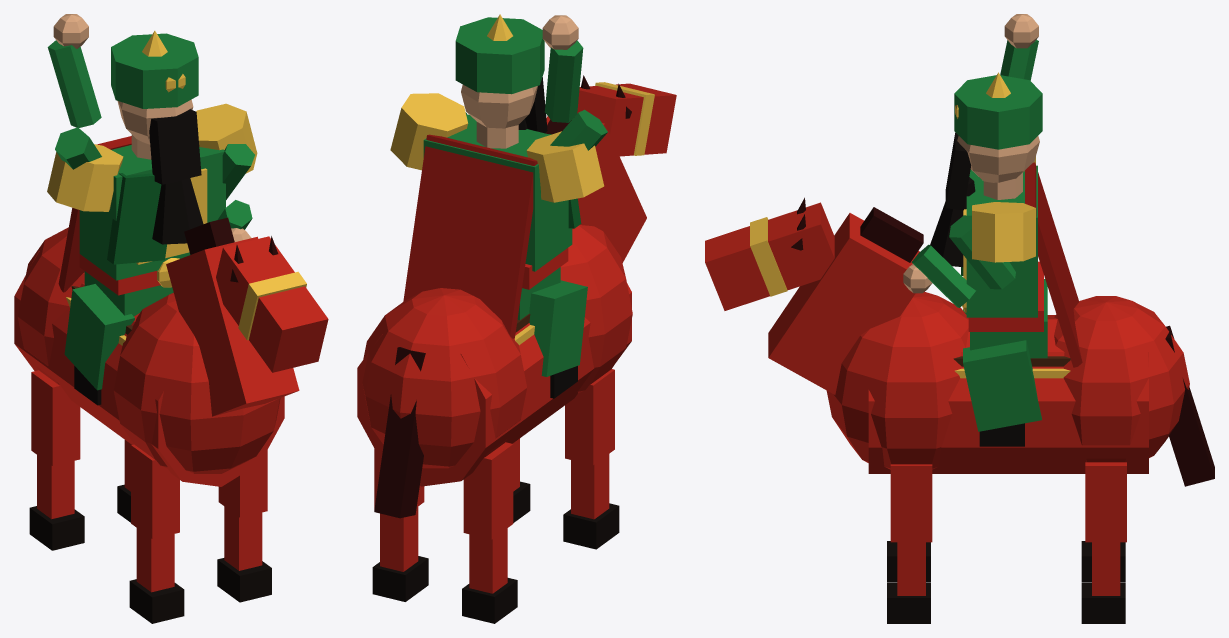
File: hero.glb
3 views of the same model, side by side, from view 1: azimuth 30°, elevation 25°; view 2: azimuth 150°, elevation 25°; view 3: azimuth 270°, elevation 25° (orthographic). The views are drawn at different scales.
Visible parts, largest first — view 1: 구체.001, 큐브, 큐브.002, Leg_BR, Leg_FR, 실린더, Leg_FL, 실린더.004, 큐브.013, 구체, 큐브.008, 큐브.015 (+18 smaller); view 2: 구체, 큐브.016, Leg_BR, Leg_FR, 실린더, 구체.001, 실린더.004, 큐브.013, 큐브.004, 큐브, 큐브.002, 큐브.008 (+14 smaller); view 3: 구체.001, 구체, 큐브, 실린더, 큐브.002, Leg_BL, Leg_FL, 큐브.010, 실린더.004, 큐브.013, 큐브.016, 실린더.002 (+15 smaller).
Boxes of the visible parts, <box> form: 구체.001: <box>113,293,280,473</box>; 큐브: <box>166,236,299,416</box>; 큐브.002: <box>216,236,328,372</box>; Leg_BR: <box>29,370,84,550</box>; Leg_FR: <box>129,444,184,623</box>; 실린더: <box>14,251,284,486</box>; Leg_FL: <box>217,450,271,602</box>; 실린더.004: <box>111,33,198,108</box>; 큐브.013: <box>79,145,225,280</box>; 구체: <box>17,227,84,385</box>; 큐브.008: <box>64,284,134,390</box>; 큐브.015: <box>107,173,166,264</box>; 구체: <box>362,288,526,468</box>; 큐브.016: <box>403,134,537,338</box>; Leg_BR: <box>462,442,517,623</box>; Leg_FR: <box>563,369,619,549</box>; 실린더: <box>357,283,631,486</box>; 구체.001: <box>560,225,632,393</box>; 실린더.004: <box>455,17,544,94</box>; 큐브.013: <box>423,114,572,271</box>; 큐브.004: <box>374,347,425,518</box>; 큐브: <box>546,116,646,262</box>; 큐브.002: <box>577,83,676,156</box>; 큐브.008: <box>529,280,587,376</box>; 구체.001: <box>826,291,968,469</box>; 구체: <box>1054,296,1189,462</box>; 큐브: <box>768,213,919,394</box>; 실린더: <box>868,315,1148,473</box>; 큐브.002: <box>705,202,834,310</box>; Leg_BL: <box>1081,462,1126,623</box>; Leg_FL: <box>887,464,932,623</box>; 큐브.010: <box>963,340,1041,431</box>; 실린더.004: <box>954,75,1042,149</box>; 큐브.013: <box>966,165,1037,317</box>; 큐브.016: <box>1025,162,1082,367</box>; 실린더.002: <box>972,202,1035,262</box>.
Size of the model in its own units: 1.75 by 4.65 by 3.93.
